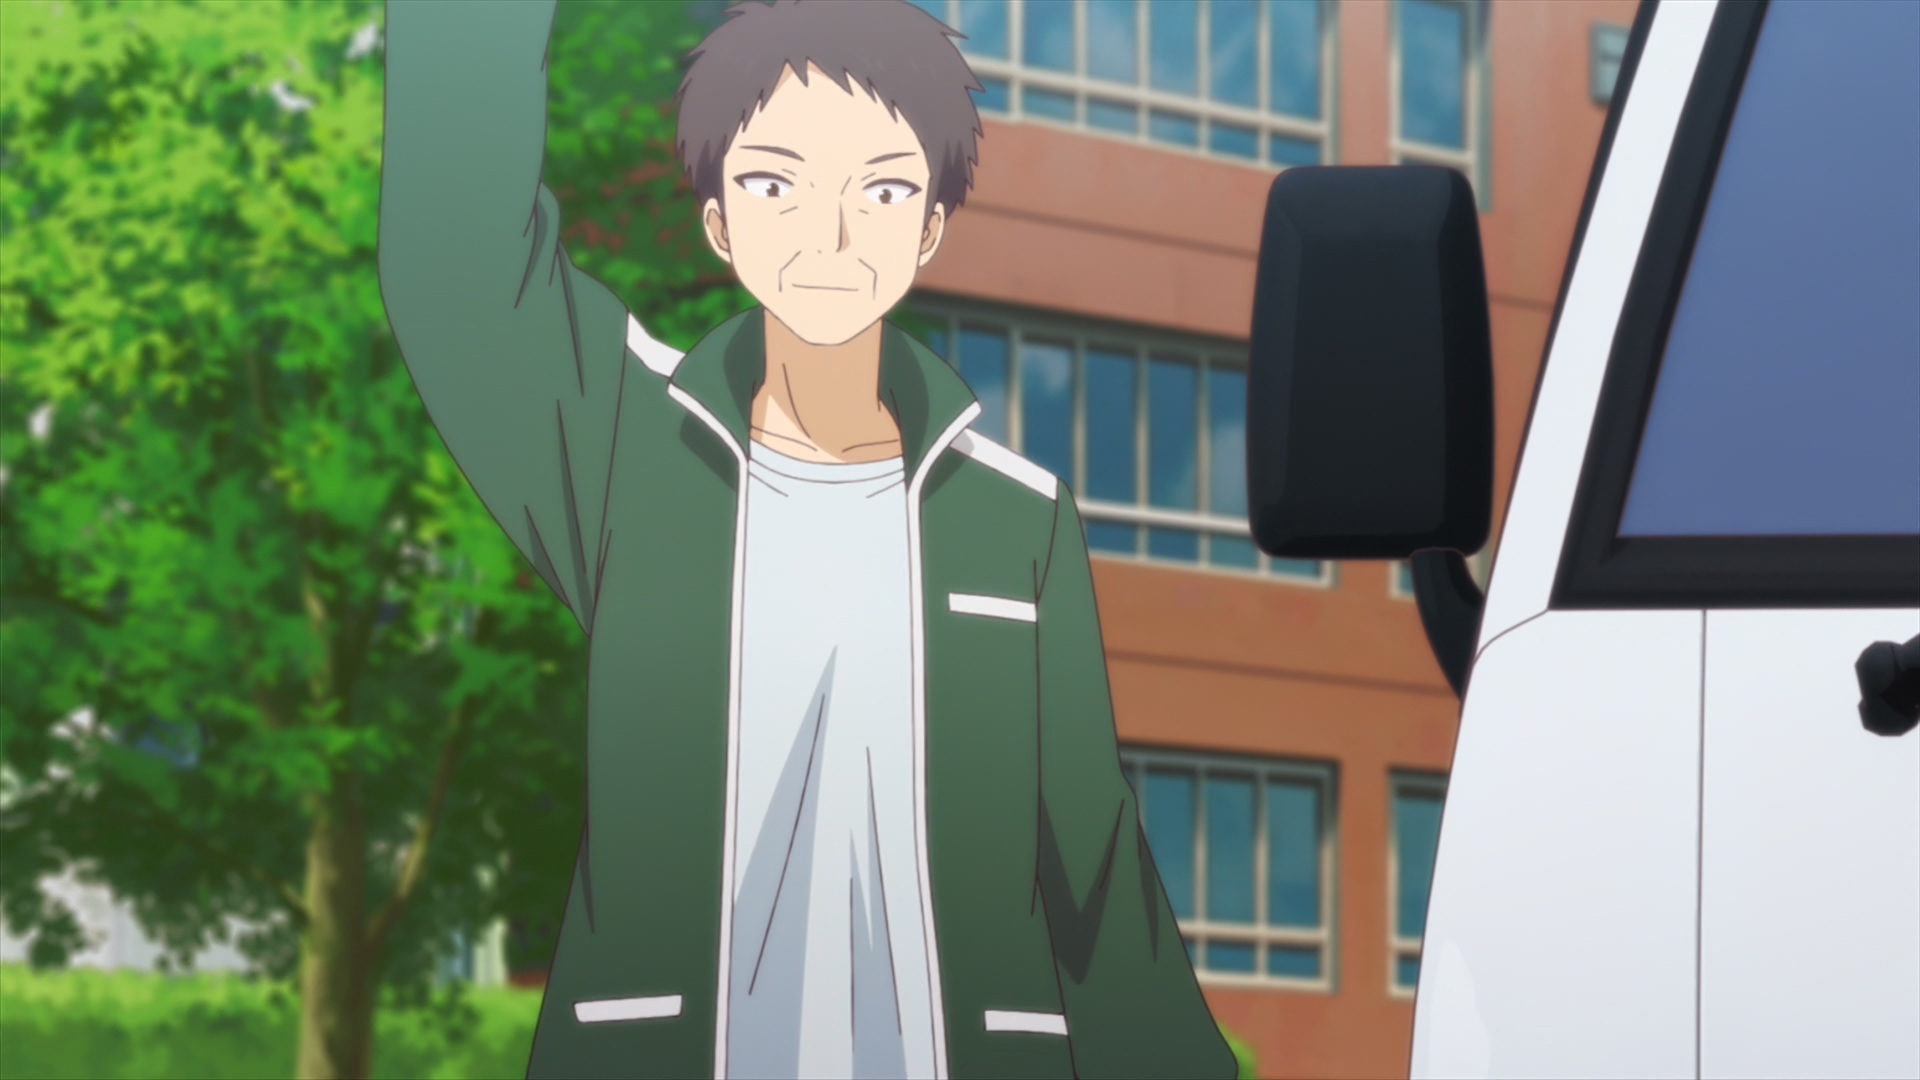其他: (375, 1, 1244, 1080)
